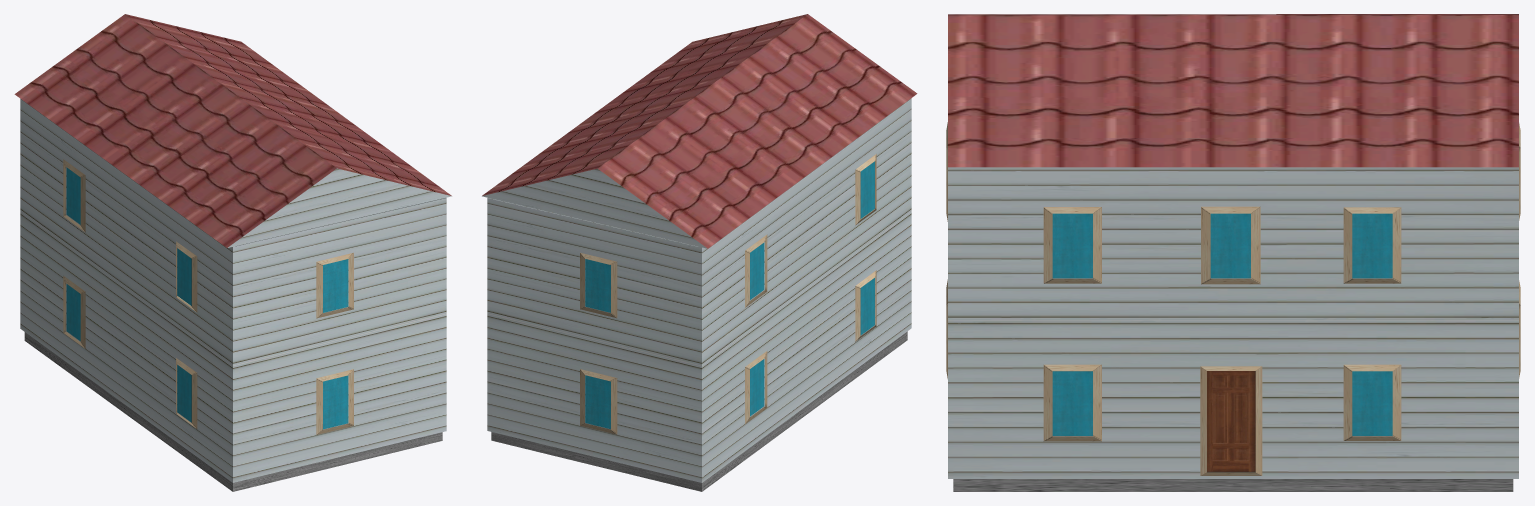
The model's file is Hus3v2.glb.
3 renders of one model, left to right at view 1: azimuth 30°, elevation 25°; view 2: azimuth 150°, elevation 25°; view 3: azimuth 270°, elevation 25°, orthographic. The views are drawn at different scales.
Parts seen in each view (by area): view 1: Hus3; view 2: Hus3; view 3: Hus3.
Boxes of the visible parts, x1=… form: Hus3: x1=14, y1=14, x2=451, y2=491; Hus3: x1=482, y1=14, x2=917, y2=491; Hus3: x1=946, y1=14, x2=1520, y2=491.
Size of the model in its own units: 7.17 by 9.07 by 11.64.
Materials: 1 (1 with a texture image).
